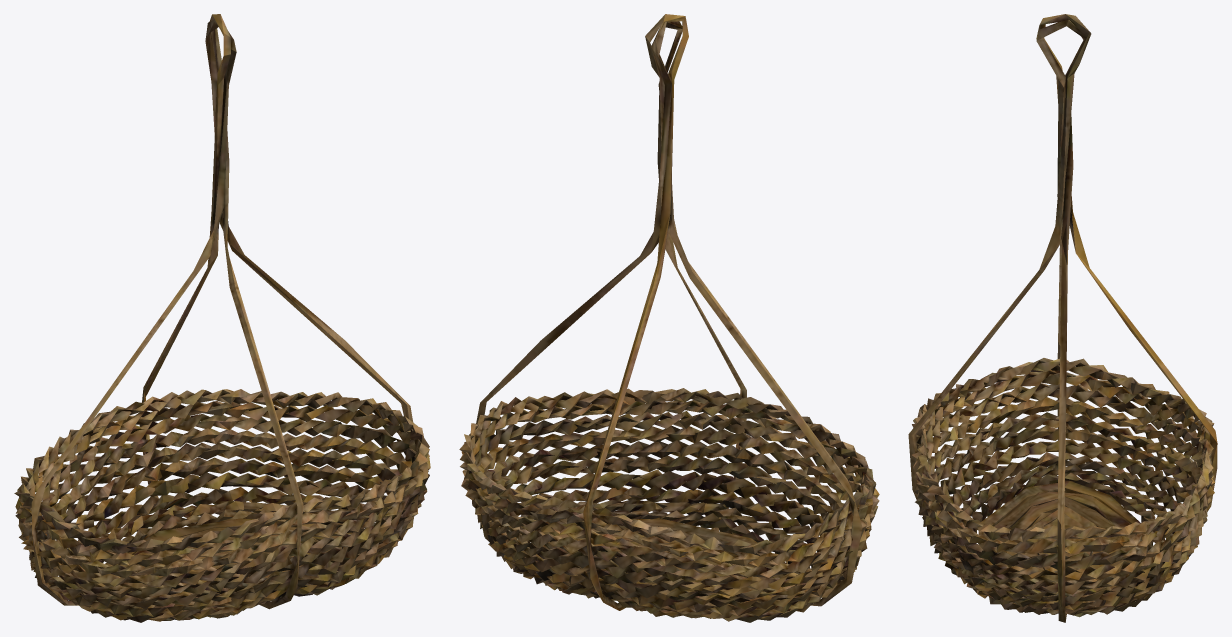
Rendered from xi_oam_wicker_hanging_basket.gltf.
3 views of the same model, side by side, from view 1: azimuth 30°, elevation 25°; view 2: azimuth 150°, elevation 25°; view 3: azimuth 270°, elevation 25° (orthographic). The views are drawn at different scales.
Visible parts, largest first — view 1: xi_oam_wicker_hanging_basket; view 2: xi_oam_wicker_hanging_basket; view 3: xi_oam_wicker_hanging_basket.
Part boxes in pixels (box(x1,y1,x2,y2)): xi_oam_wicker_hanging_basket: box(14, 14, 430, 622); xi_oam_wicker_hanging_basket: box(459, 14, 879, 622); xi_oam_wicker_hanging_basket: box(908, 14, 1217, 622).
Bounding box in the file's own units: 0.6542 × 0.9273 × 0.4673.
1 material, 1 textured.
